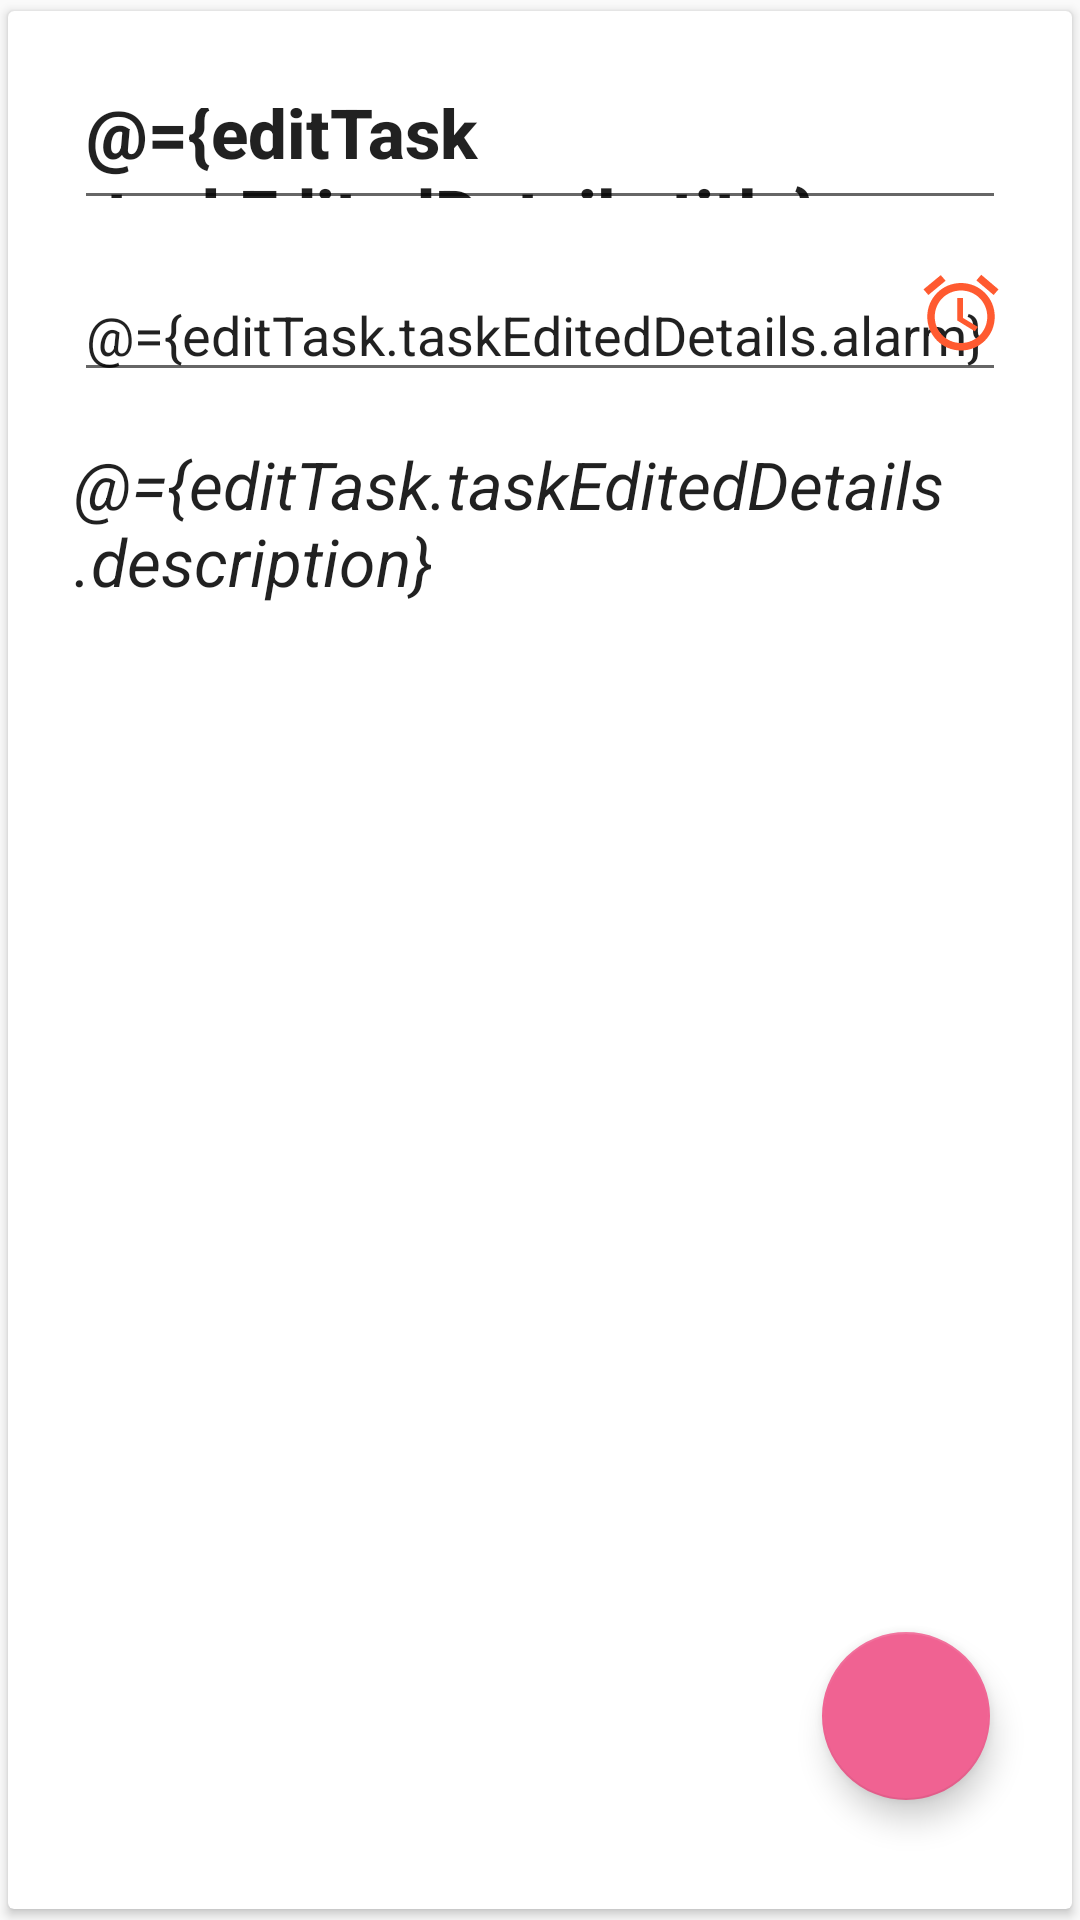

Icon bounding boxes for this 1080x1920 phone screenshot, format (x1=x1, y1=y1, x2=x2, y2=y2):
time picker: (x1=916, y1=275, x2=999, y2=358)
